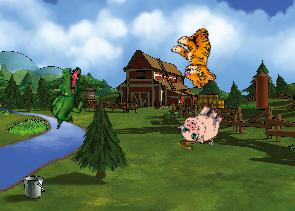crocodile: (45, 65, 89, 129)
pig: (175, 96, 229, 152)
tiger: (164, 22, 232, 92)
